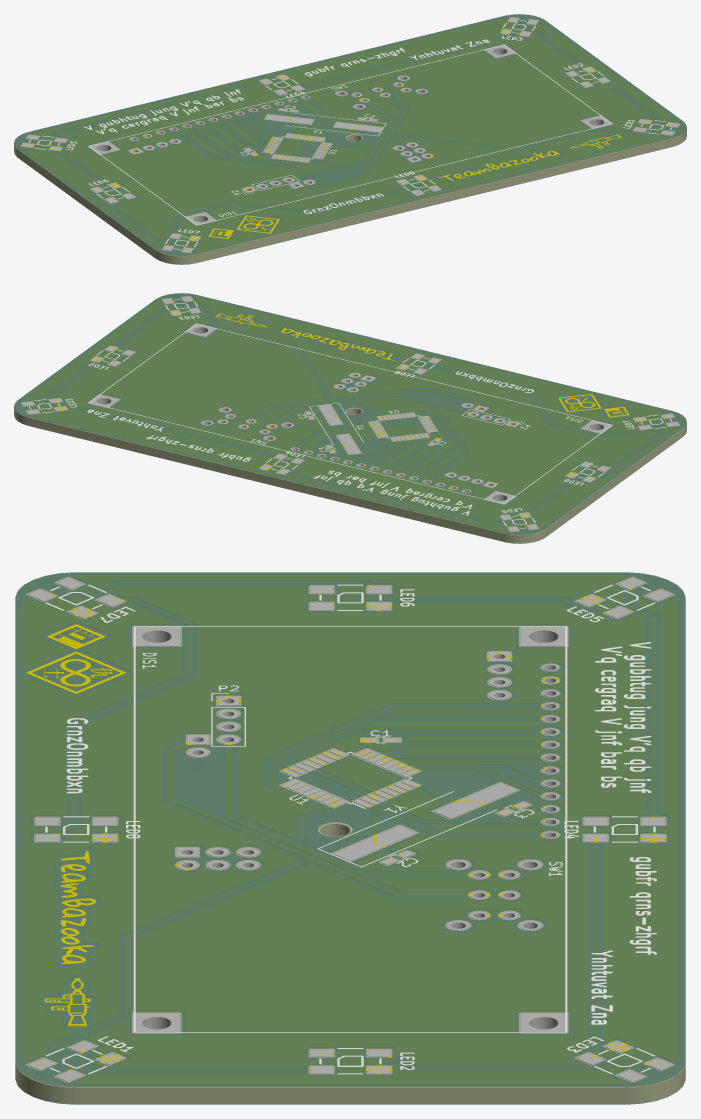
The model's file is team-bazooka-vfd-badge-dc25.glb.
3 renders of one model, top to bottom at view 1: azimuth 30°, elevation 25°; view 2: azimuth 150°, elevation 25°; view 3: azimuth 270°, elevation 25°, orthographic. The views are drawn at different scales.
Visible parts, largest first — view 1: =>[0:1:1:7], =>[0:1:1:2], =>[0:1:1:9], =>[0:1:1:5]; view 2: =>[0:1:1:7], =>[0:1:1:2], =>[0:1:1:9], =>[0:1:1:5]; view 3: =>[0:1:1:7], =>[0:1:1:2], =>[0:1:1:9], =>[0:1:1:5].
Part boxes in pixels (box(x1,y1,x2,y2)): =>[0:1:1:7]: box(14, 14, 686, 264); =>[0:1:1:2]: box(21, 17, 678, 252); =>[0:1:1:9]: box(14, 15, 686, 264); =>[0:1:1:5]: box(28, 20, 672, 249); =>[0:1:1:7]: box(14, 293, 686, 543); =>[0:1:1:2]: box(22, 296, 679, 531); =>[0:1:1:9]: box(14, 294, 686, 543); =>[0:1:1:5]: box(28, 299, 672, 528); =>[0:1:1:7]: box(15, 572, 685, 1104); =>[0:1:1:2]: box(23, 576, 677, 1084); =>[0:1:1:9]: box(15, 573, 685, 1104); =>[0:1:1:5]: box(45, 584, 656, 1074).
Bounding box in the file's own units: 0.1016 × 0.00166 × 0.0559.
4 materials, 4 textured.
